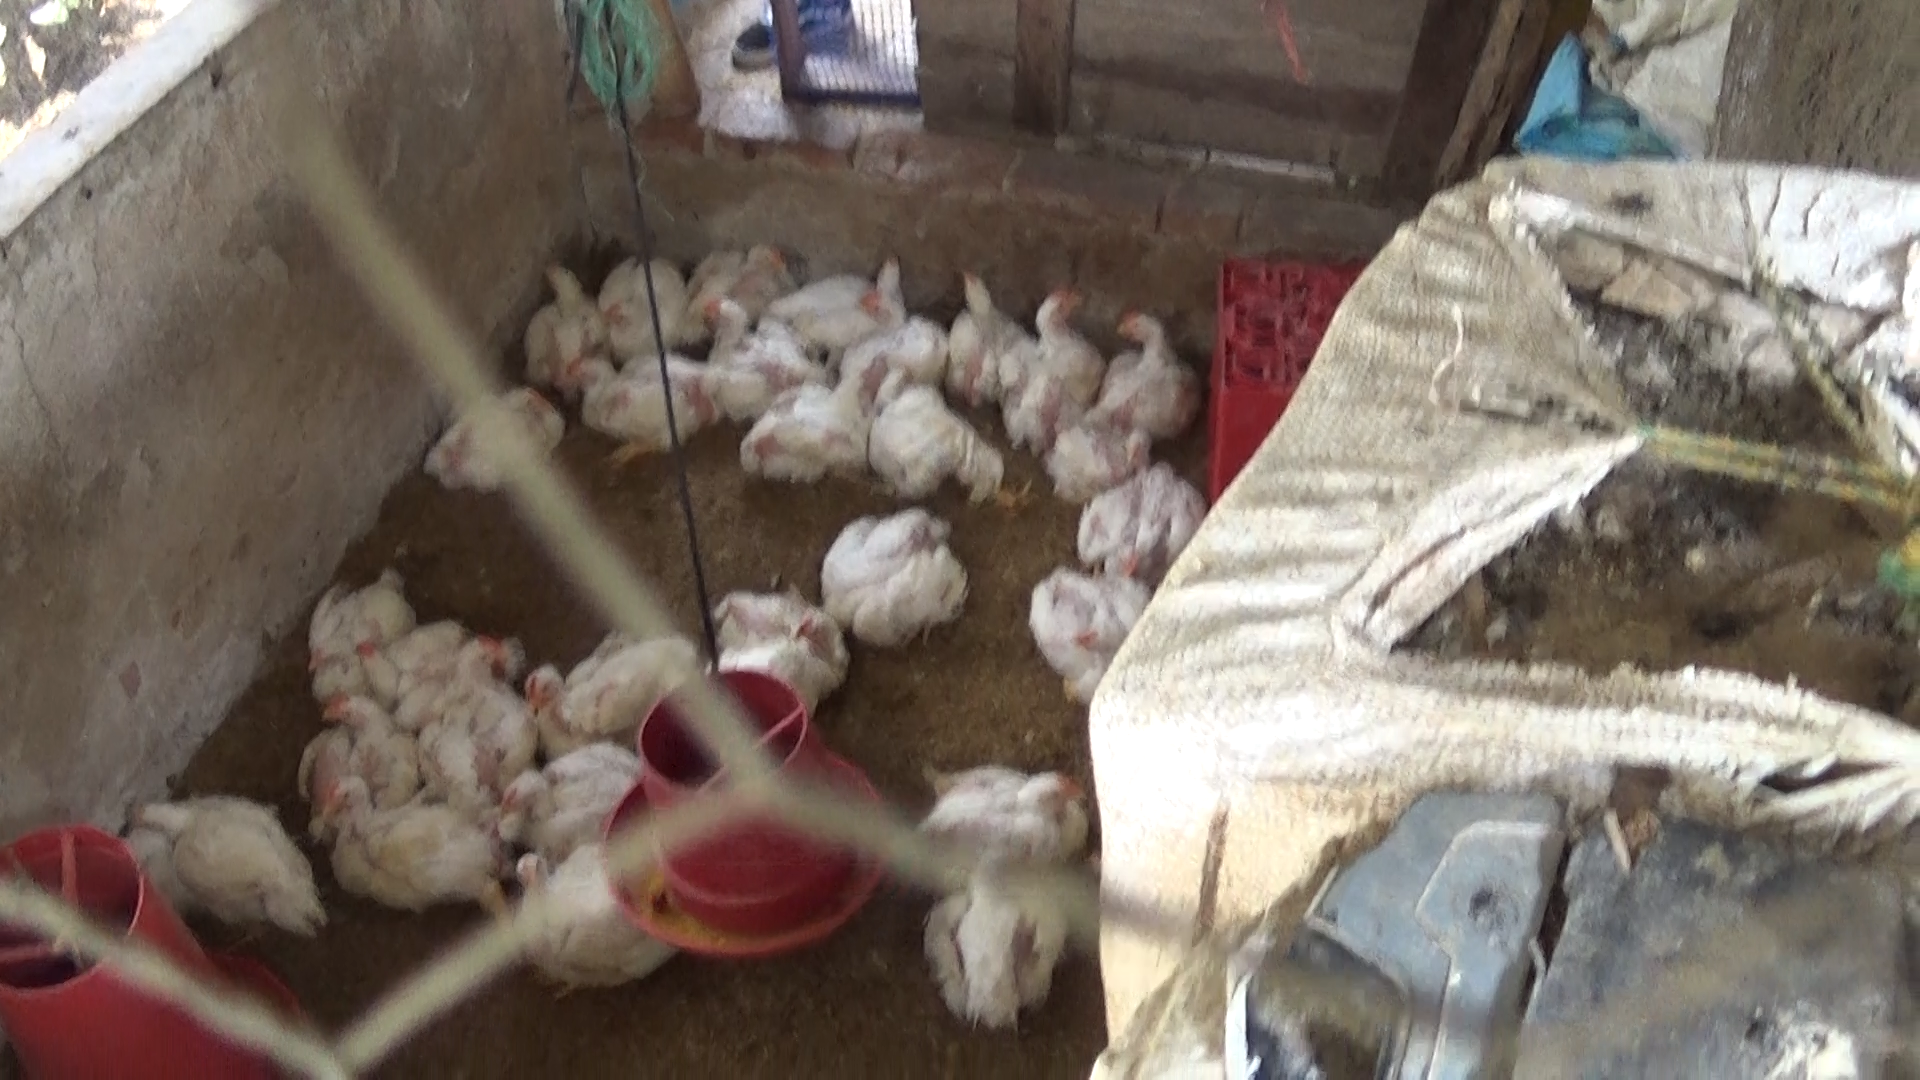Pollos: (109, 794, 324, 927), (305, 766, 505, 905), (498, 839, 662, 1002), (915, 868, 1058, 1034), (517, 636, 705, 752), (873, 375, 1026, 517), (911, 748, 1096, 864), (827, 506, 975, 646), (1022, 558, 1162, 703), (1076, 431, 1211, 568), (1007, 286, 1101, 458), (553, 339, 686, 452), (712, 589, 845, 698), (301, 553, 422, 669), (703, 289, 819, 407), (483, 754, 645, 837), (319, 686, 448, 789), (421, 386, 559, 481), (1113, 303, 1207, 426), (419, 609, 516, 728), (728, 392, 861, 477), (839, 301, 945, 407), (683, 229, 789, 336), (949, 266, 1026, 404), (778, 257, 922, 330), (589, 245, 686, 345), (524, 251, 600, 369)
